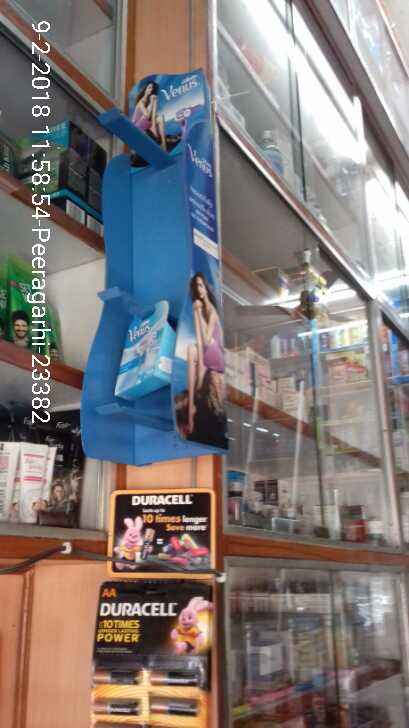venus: (116, 309, 175, 401)
